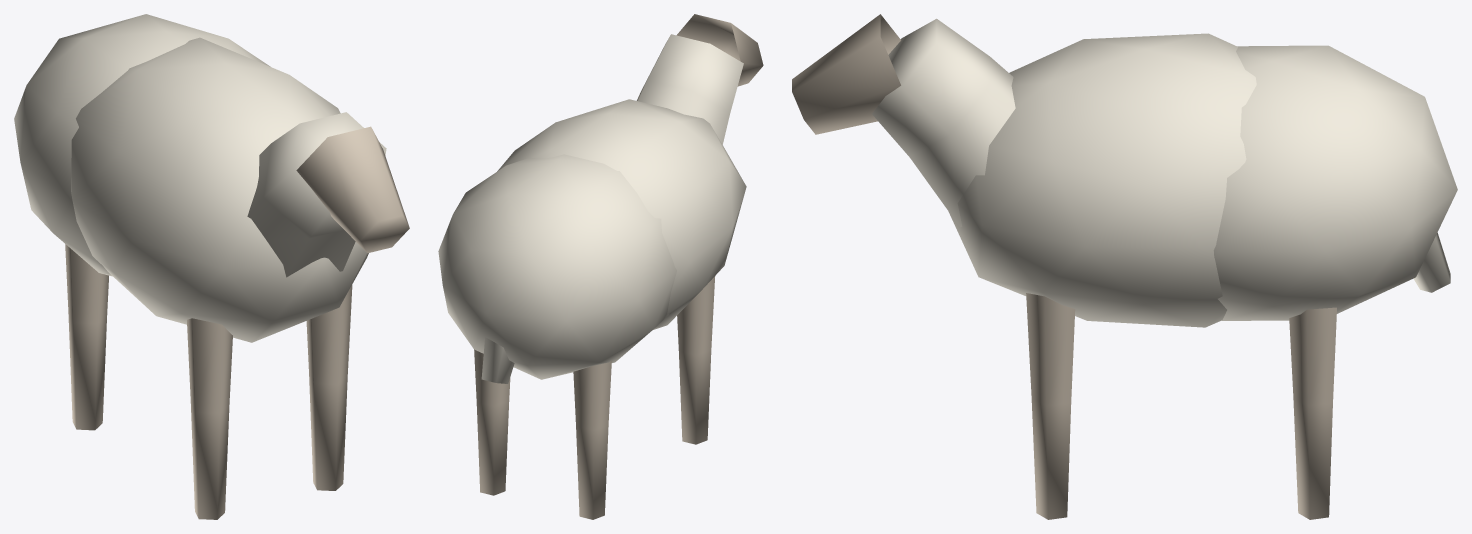
File: sheep_1.glb
3 renders of one model, left to right at view 1: azimuth 30°, elevation 25°; view 2: azimuth 150°, elevation 25°; view 3: azimuth 270°, elevation 25°, orthographic. The views are drawn at different scales.
Parts seen in each view (by area): view 1: sheep_1.glb; view 2: sheep_1.glb; view 3: sheep_1.glb.
Part boxes in pixels (x1,y1,x2,y2): sheep_1.glb: (14, 14, 409, 519); sheep_1.glb: (438, 14, 763, 519); sheep_1.glb: (792, 14, 1457, 519).
Size of the model in its own units: 0.4992 by 0.8282 by 1.09.
